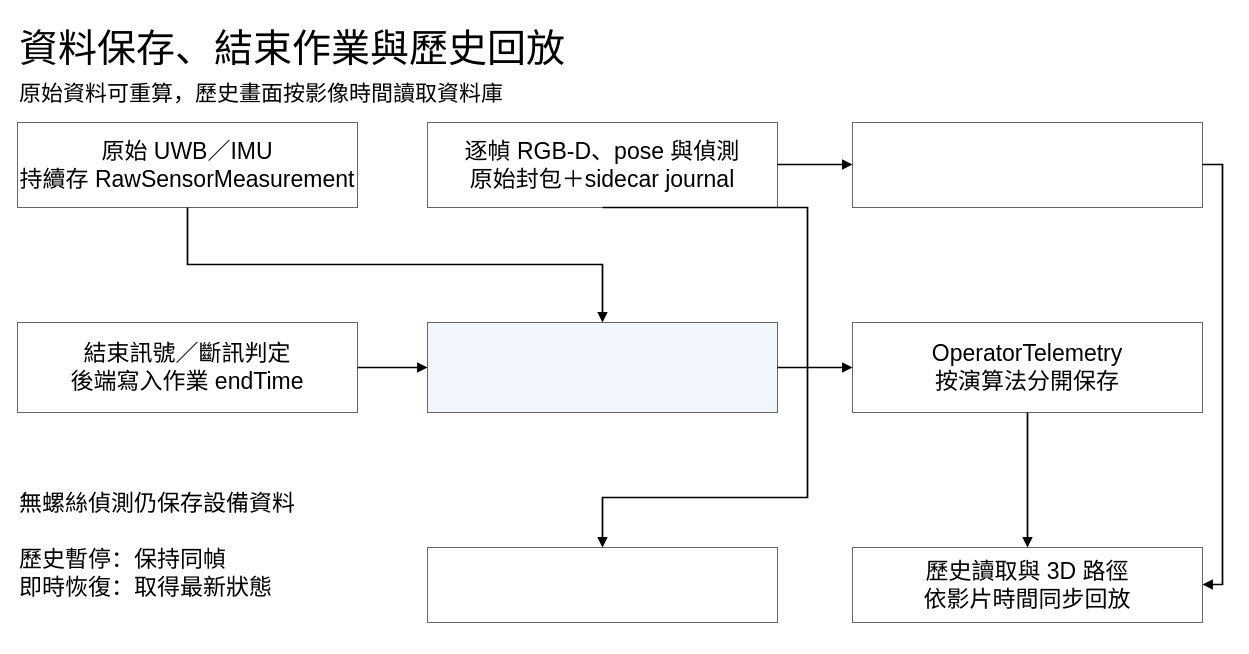
Some shapes in this 1249 by 654 pixel diagram are drawn without their labels. Each missing label, with the box of its shape:
MongoDB：RgbdFrame 提交成功才回 persisted ACK: (852, 122, 1202, 208)
Worker 重播原始量測 分別計算 4 種設備路徑: (426, 322, 778, 412)
即時畫面與 3D 資料 暫停只凍結前端: (426, 546, 778, 622)
